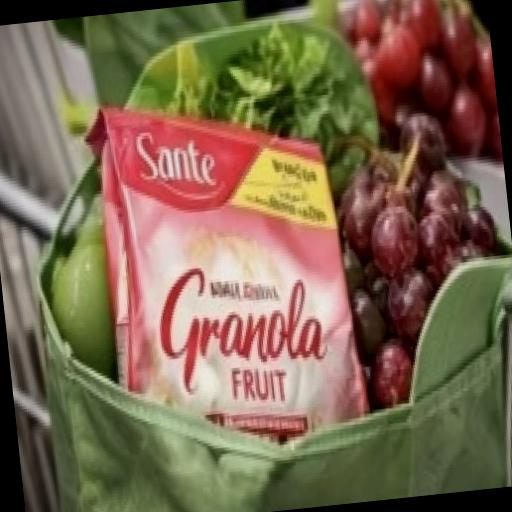granola: (74, 64, 392, 502)
